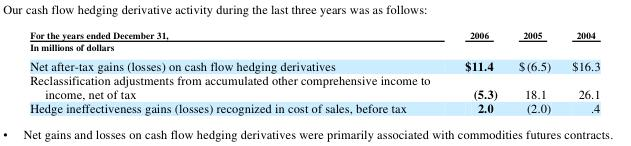table: (29, 29, 599, 115)
table column: (29, 29, 446, 115), (446, 29, 507, 115), (507, 29, 560, 115), (560, 29, 599, 115)
table column header: (29, 29, 599, 40)
table projected row header: (29, 40, 599, 55)
table row: (29, 73, 599, 101), (29, 55, 599, 73), (29, 40, 599, 55), (29, 101, 599, 115), (29, 29, 599, 40)
